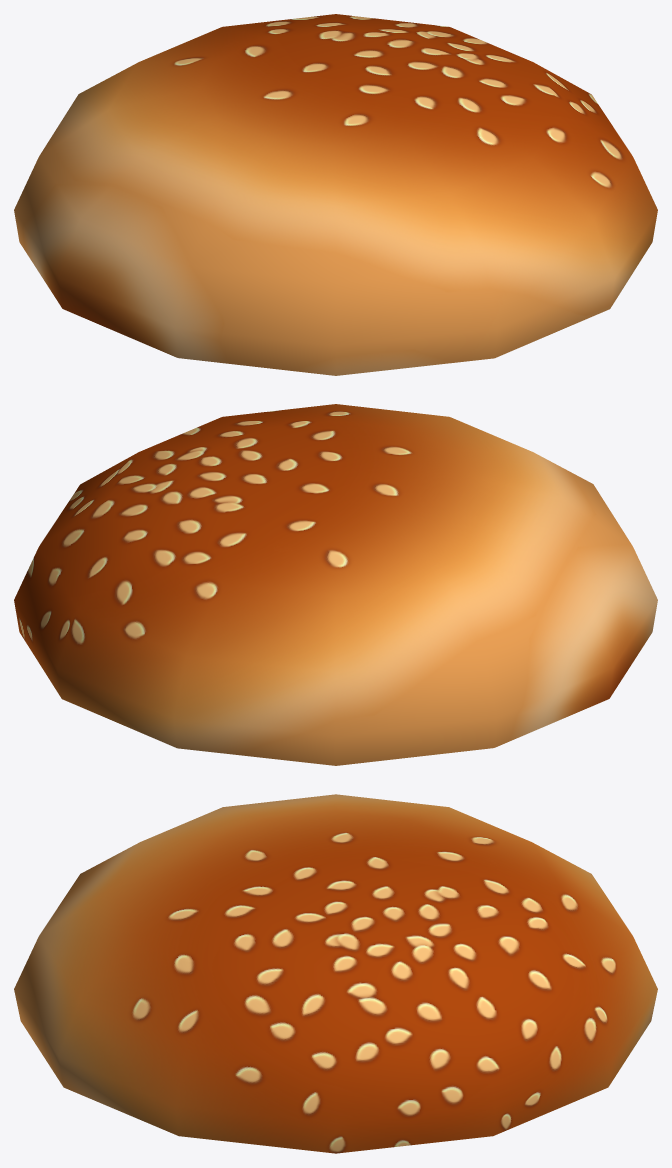
File: Bun_Hamburger_Half_01.fbx
3 renders of one model, top to bottom at view 1: azimuth 30°, elevation 25°; view 2: azimuth 150°, elevation 25°; view 3: azimuth 270°, elevation 25°, orthographic.
Visible parts, largest first — view 1: Bun_Hamburger_Half_01; view 2: Bun_Hamburger_Half_01; view 3: Bun_Hamburger_Half_01.
Boxes of the visible parts, x1=… form: Bun_Hamburger_Half_01: x1=14, y1=14, x2=657, y2=375; Bun_Hamburger_Half_01: x1=14, y1=404, x2=657, y2=765; Bun_Hamburger_Half_01: x1=14, y1=794, x2=657, y2=1153.
Size of the model in its own units: 32.11 by 8.94 by 32.52.
